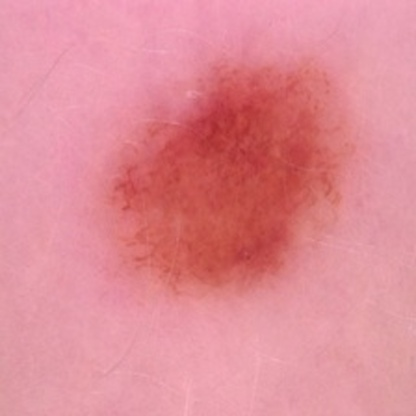benign: (124, 79, 342, 266)
